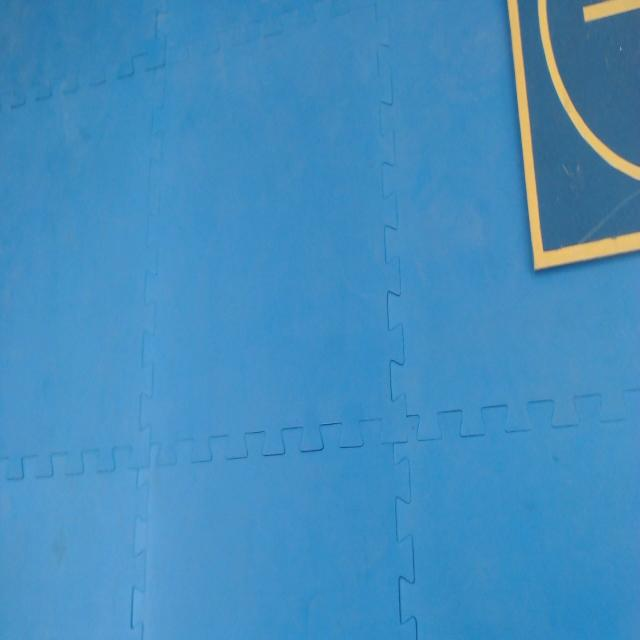base_pouso: (505, 0, 640, 278)
